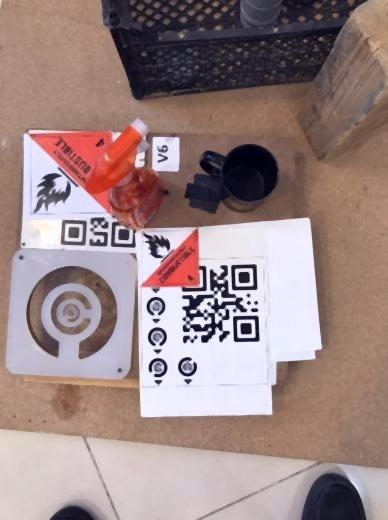spontaneously-combustible: (21, 129, 120, 223), (137, 227, 198, 287)
